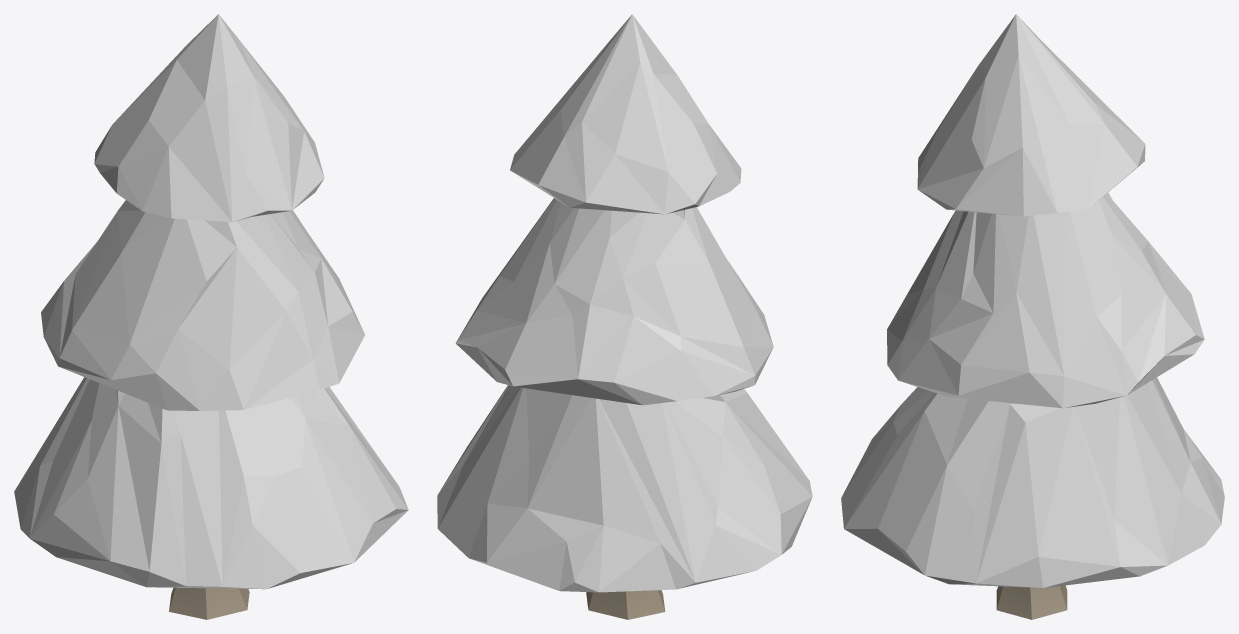
The model's file is tree.fbx.
3 renders of one model, left to right at view 1: azimuth 30°, elevation 25°; view 2: azimuth 150°, elevation 25°; view 3: azimuth 270°, elevation 25°, orthographic.
Visible parts, largest first — view 1: pCylinder1, pCylinder2; view 2: pCylinder1, pCylinder2; view 3: pCylinder1, pCylinder2.
Boxes of the visible parts, x1=… form: pCylinder1: x1=14, y1=14, x2=408, y2=589; pCylinder2: x1=169, y1=587, x2=249, y2=619; pCylinder1: x1=437, y1=14, x2=812, y2=592; pCylinder2: x1=586, y1=590, x2=665, y2=619; pCylinder1: x1=841, y1=14, x2=1224, y2=587; pCylinder2: x1=996, y1=585, x2=1067, y2=619.
Size of the model in its own units: 2.34 by 3.95 by 2.34.
Materials: 2 (1 with a texture image).
